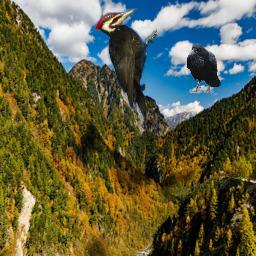Crow: (186, 43, 221, 93)
Woodpecker: (91, 8, 157, 120)
